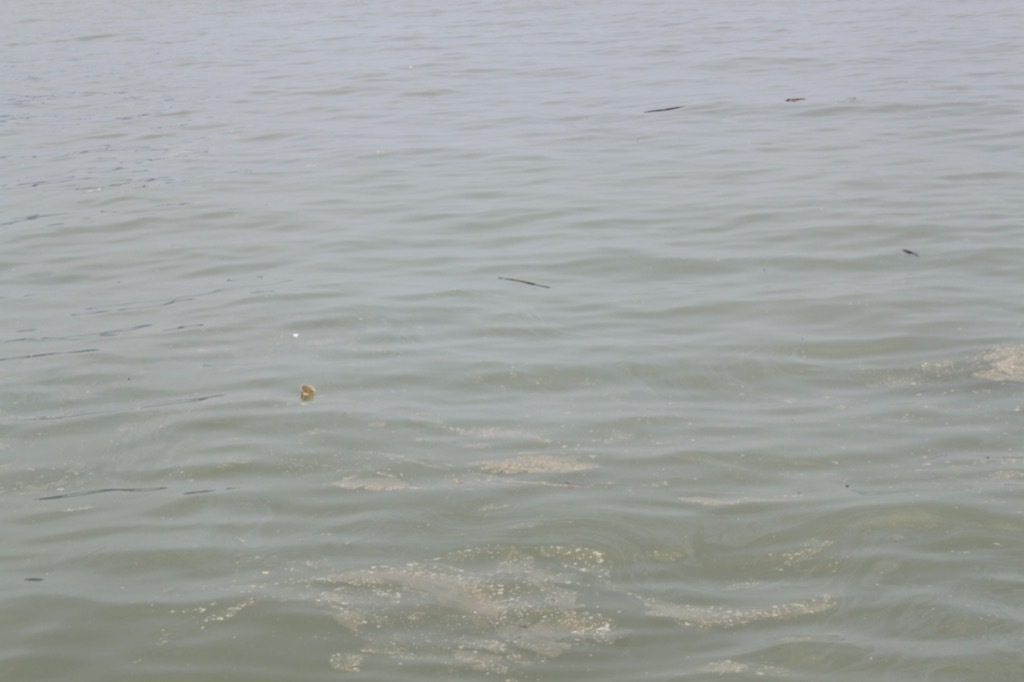organic: (486, 263, 563, 303), (634, 95, 696, 121), (896, 237, 926, 269), (779, 87, 820, 110)
plastic: (286, 370, 334, 420), (278, 320, 314, 353)
